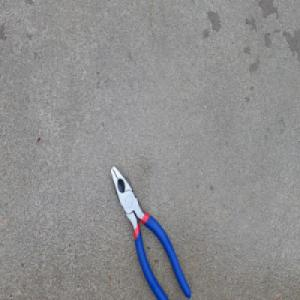Pliers: (110, 164, 191, 299)
